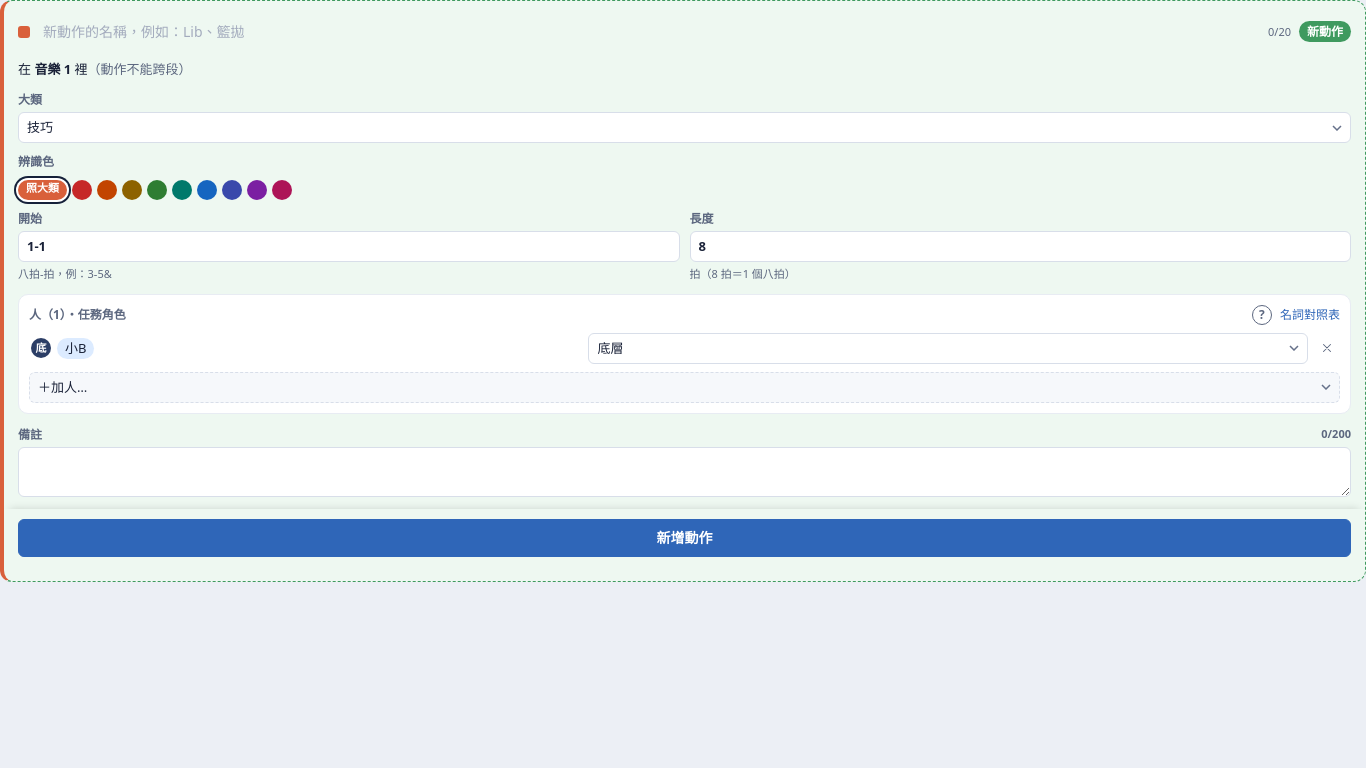
動作表單：新增 › 在開始欄按 Enter 被擋：原因寫在開始欄旁邊，自己捲出來（#214、N03）
Replace the text in the field named "開始" with "abc" at [349, 246], box [18,231,680,262]
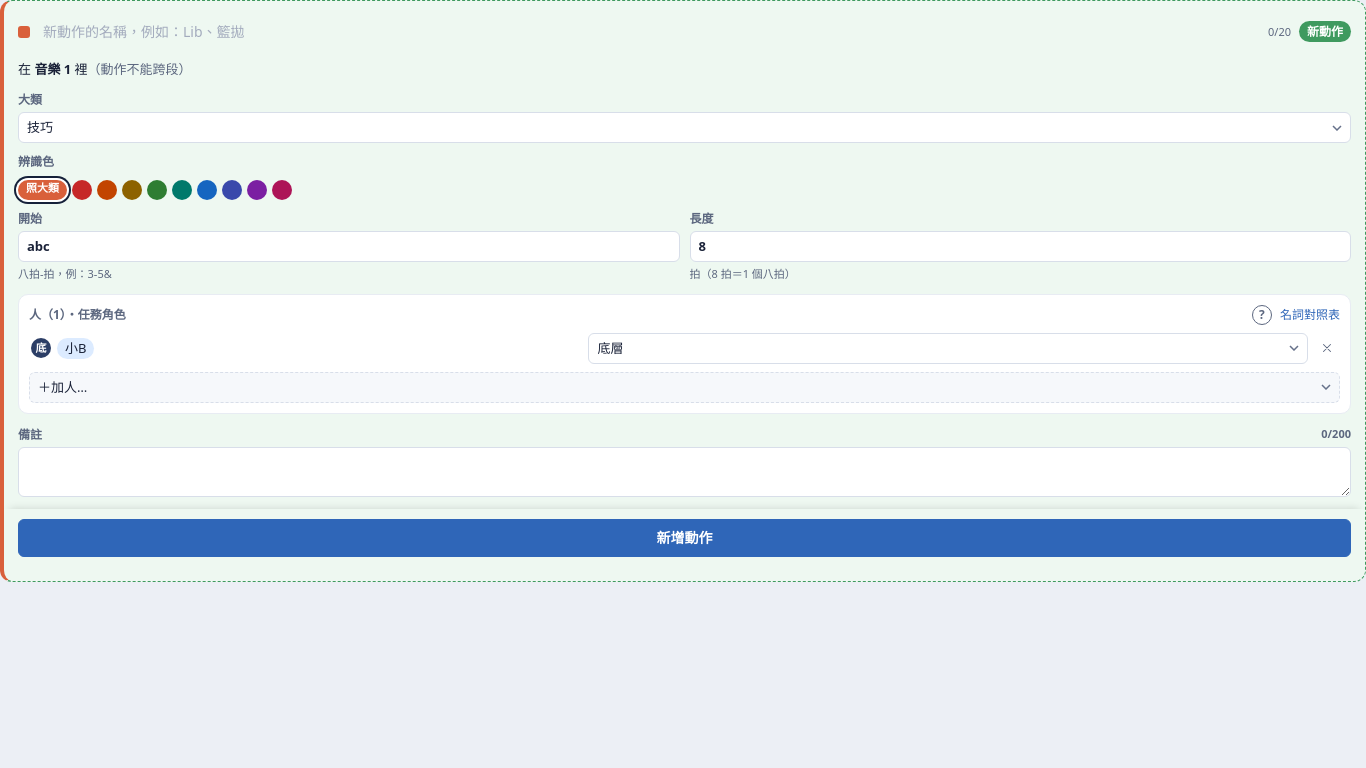
Press Enter in the field named "開始", box [18,231,680,262]
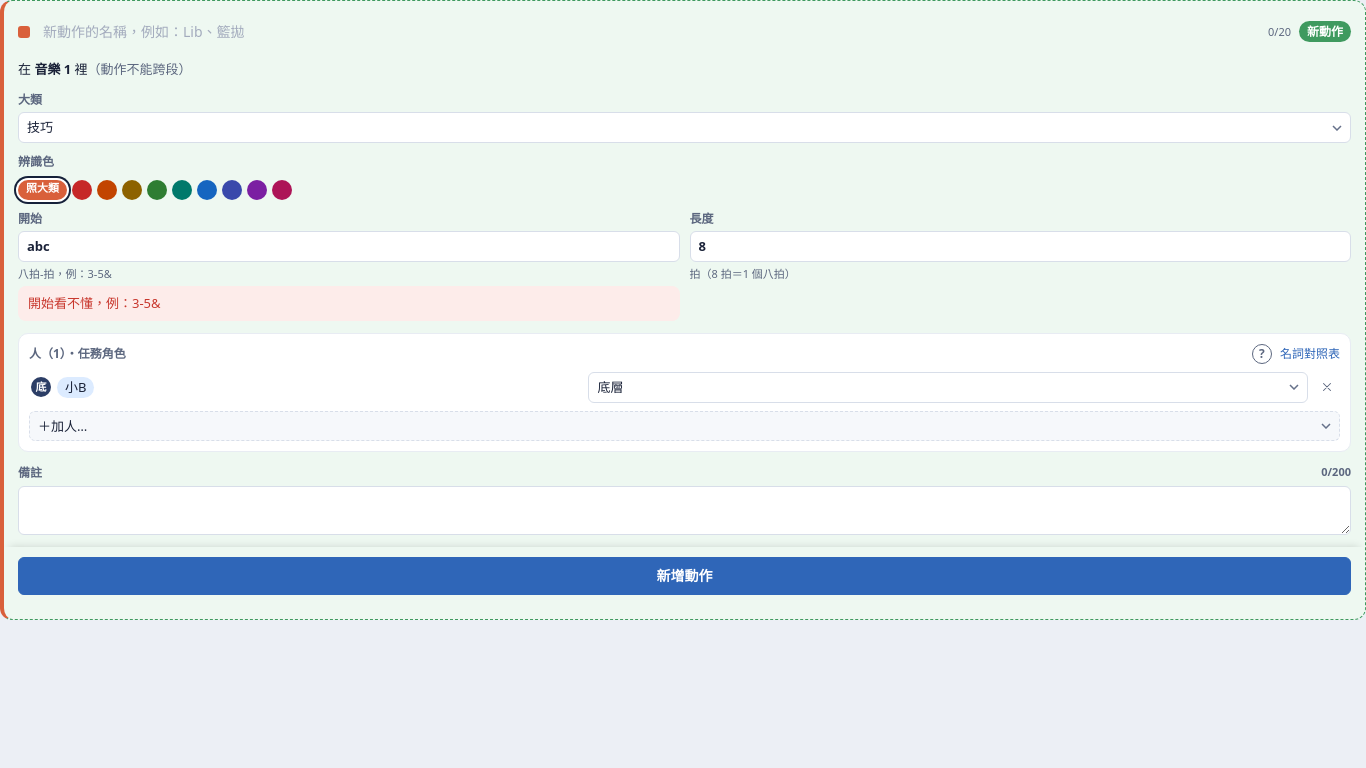
Check: the message shows "開始看不懂", box [28,294,161,312]
